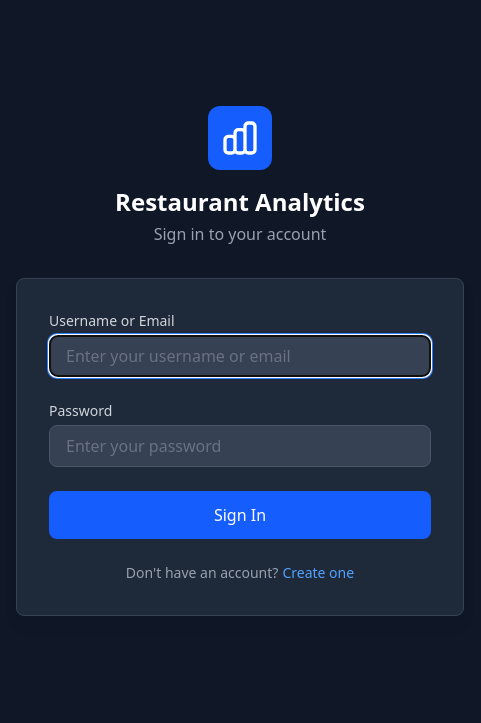
Test case: Login Page › switches back to login form
The width and height of the screenshot is (481, 723).
Note: Switch to register
What coordinates should you click on to do the following:
click the button "Create one"
I would click on:
 (318, 573)
Its box is [282, 563, 354, 583].
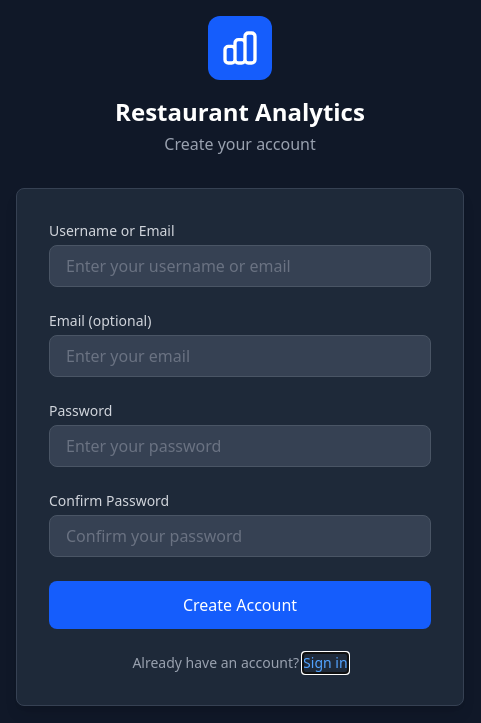
Check: the text "Create your account" is shown, box [164, 133, 316, 155]
Note: Switch back to login
What coordinates should you click on to do the following:
click the button "Sign in"
I would click on:
 (325, 663)
Its box is [303, 653, 348, 673].
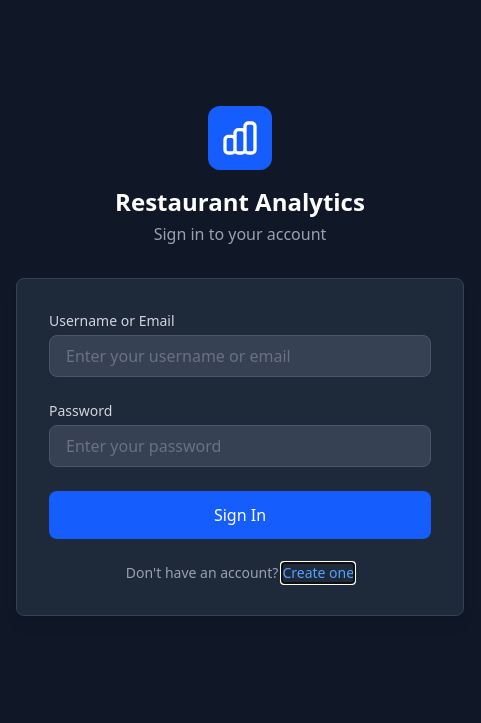
Check: the text "Sign in to your account" is shown, box [154, 223, 326, 245]
